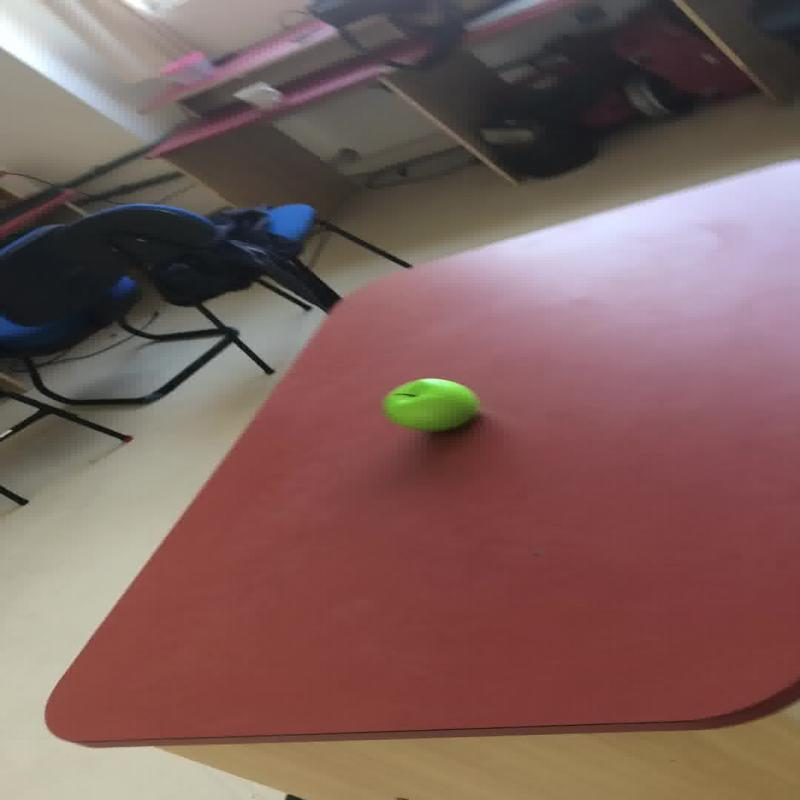apple: (380, 377, 480, 432)
